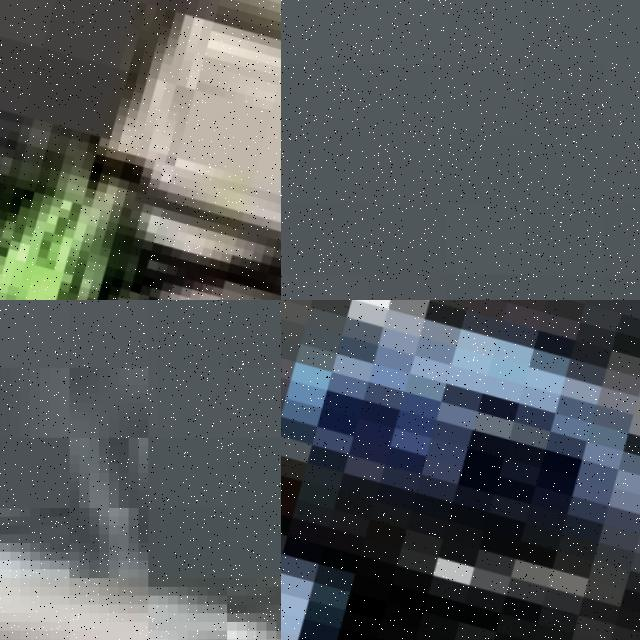drone: (281, 300, 640, 640), (0, 0, 281, 300)
